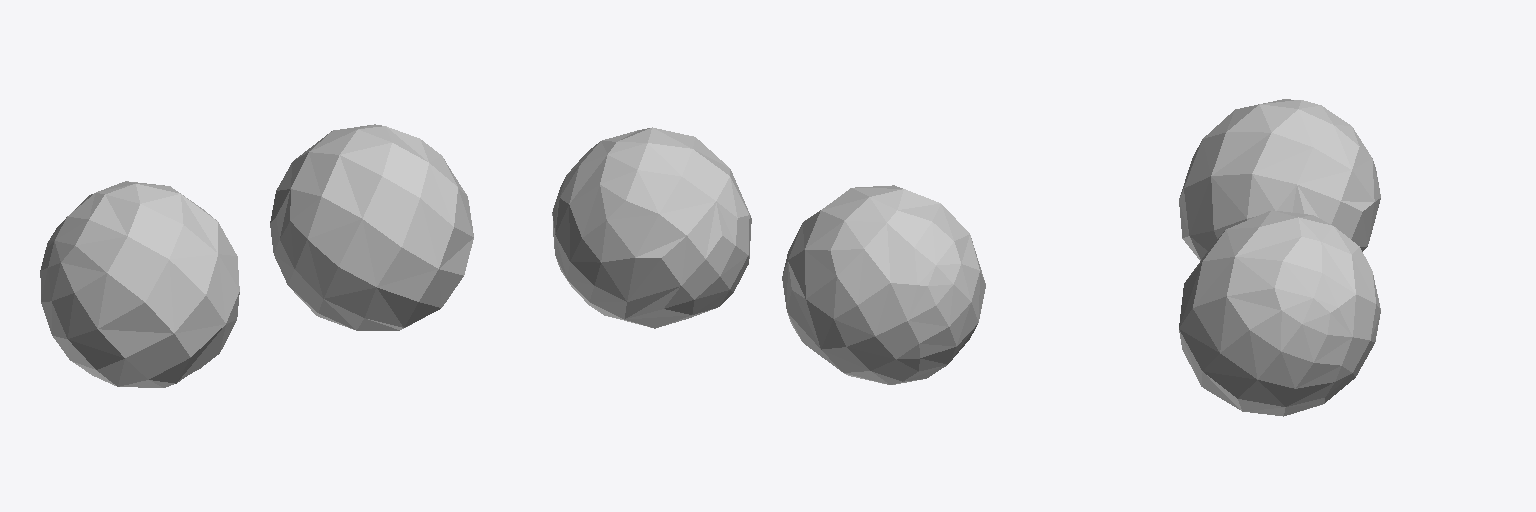
The model's file is Eyes low poly_1.OBJ.
The picture shows the model from 3 angles: view 1: azimuth 30°, elevation 25°; view 2: azimuth 150°, elevation 25°; view 3: azimuth 270°, elevation 25°; orthographic projection.
Visible parts, largest first — view 1: Group1; view 2: Group1; view 3: Group1.
Part boxes in pixels (bbox=[...]): Group1: bbox=[40, 124, 473, 387]; Group1: bbox=[552, 127, 985, 384]; Group1: bbox=[1179, 99, 1380, 416].
Size of the model in its own units: 0.2073 by 0.0901 by 0.0891.